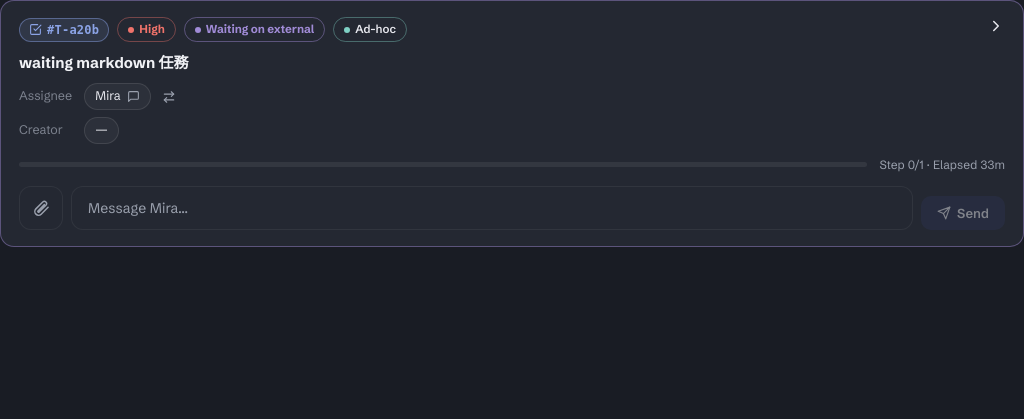
waiting label carries no orphan separator (T-a20b) › renders the en label with no trailing separator
Click the button with test id "task-card" at [512, 232], box [0, 0, 1023, 247]
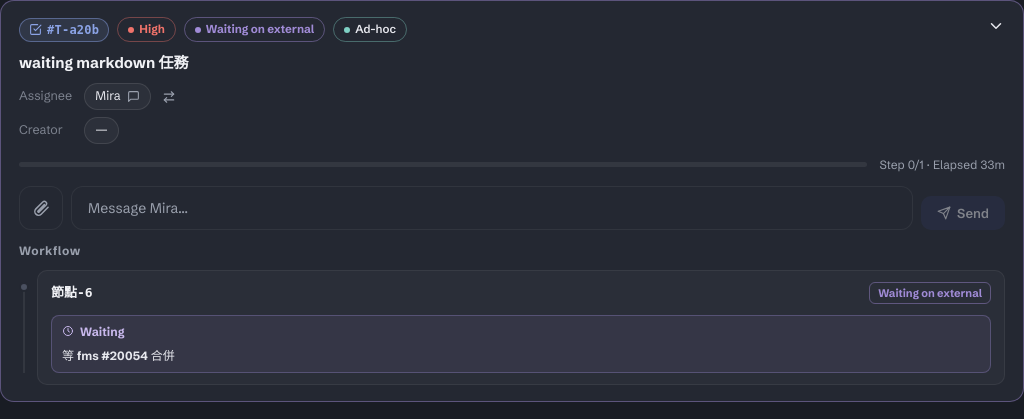
Expected: the text "Waiting" is shown, [80, 323, 125, 341]
Expected: the text "fms #20054" is shown, [77, 348, 148, 363]
Expected: the text with class "task-step__waiting-label" reads "Waiting", [80, 324, 125, 339]
